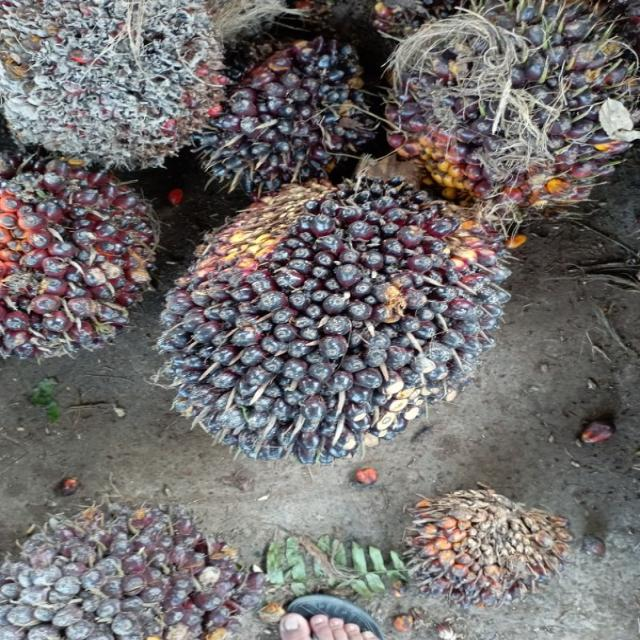fraksi 00: (164, 185, 503, 454), (384, 0, 640, 210), (200, 30, 382, 187), (408, 494, 561, 599)
fraksi 1: (0, 158, 160, 366)
